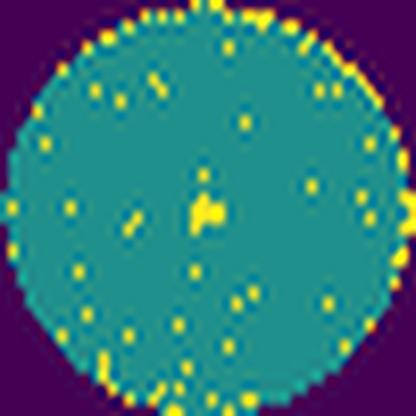Center: (191, 192, 228, 237)
